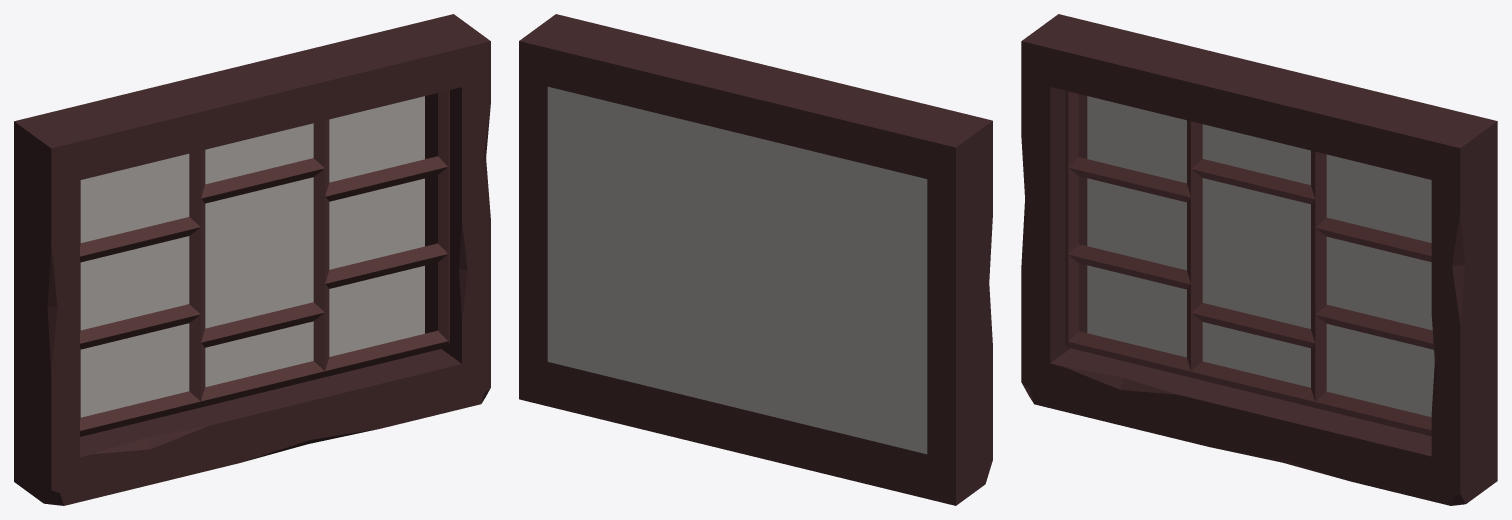
The model's file is SM_Env_Window_21.fbx.
The picture shows the model from 3 angles, left to right: view 1: azimuth 30°, elevation 25°; view 2: azimuth 150°, elevation 25°; view 3: azimuth 330°, elevation 25°; orthographic projection.
Parts seen in each view (by area): view 1: SM_Env_Window_21; view 2: SM_Env_Window_21; view 3: SM_Env_Window_21.
Boxes of the visible parts, <box> form: SM_Env_Window_21: <box>14,14,490,505</box>; SM_Env_Window_21: <box>519,14,992,505</box>; SM_Env_Window_21: <box>1021,14,1497,505</box>.
Bounding box in the file's own units: 98.23 × 76.98 × 14.39.
1 material, 1 textured.
